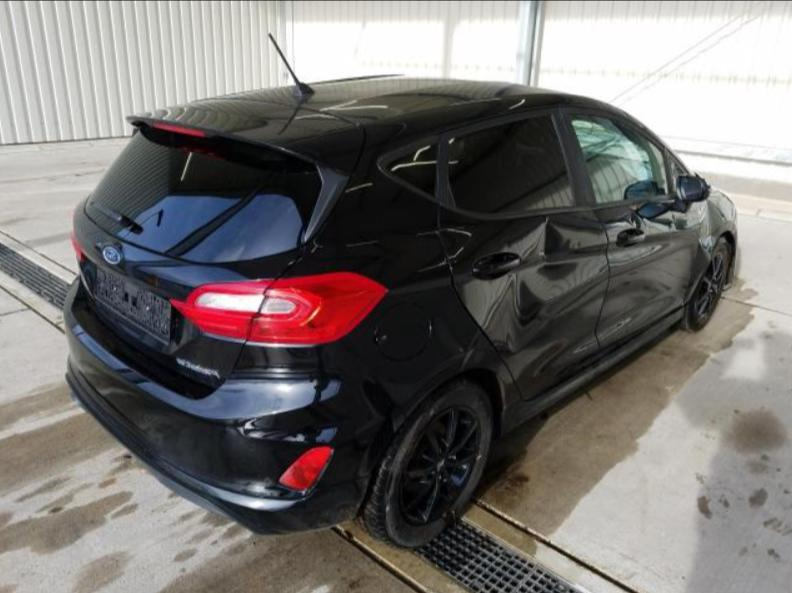Dent: (487, 217, 610, 354), (677, 225, 710, 303), (706, 198, 727, 248)
Missing part: (98, 268, 169, 339)
